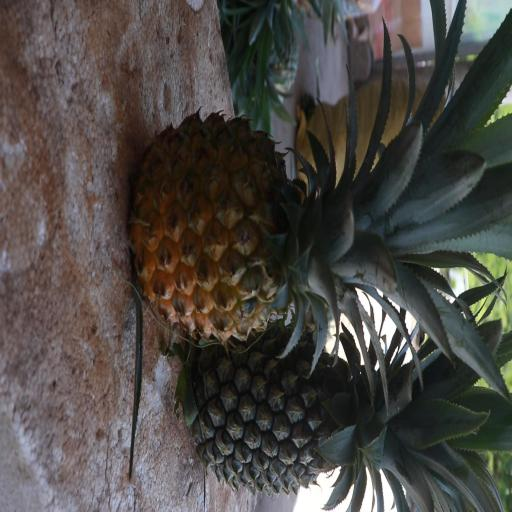Pineapple - v8 v1: (136, 118, 462, 333)
